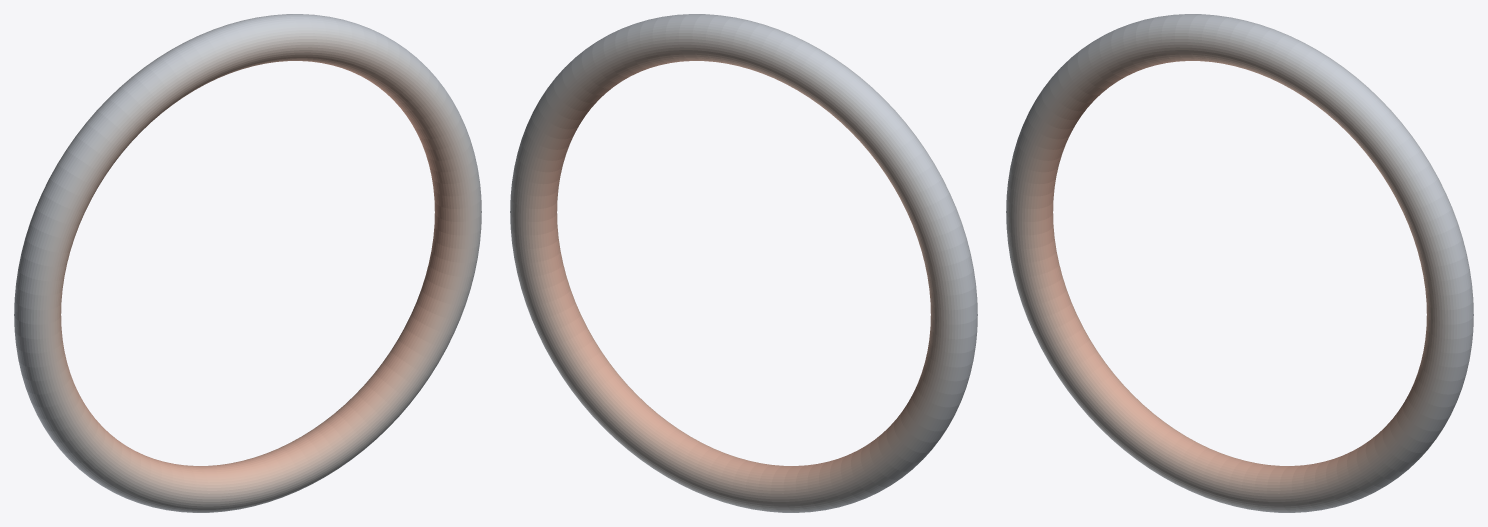
3 renders of one model, left to right at view 1: azimuth 30°, elevation 25°; view 2: azimuth 150°, elevation 25°; view 3: azimuth 330°, elevation 25°, orthographic.
Parts seen in each view (by area): view 1: world; view 2: world; view 3: world.
Boxes of the visible parts, <box> form: world: <box>14,14,481,512</box>; world: <box>510,14,977,512</box>; world: <box>1006,14,1473,512</box>.
Bounding box in the file's own units: 22.67 × 22.67 × 2.
